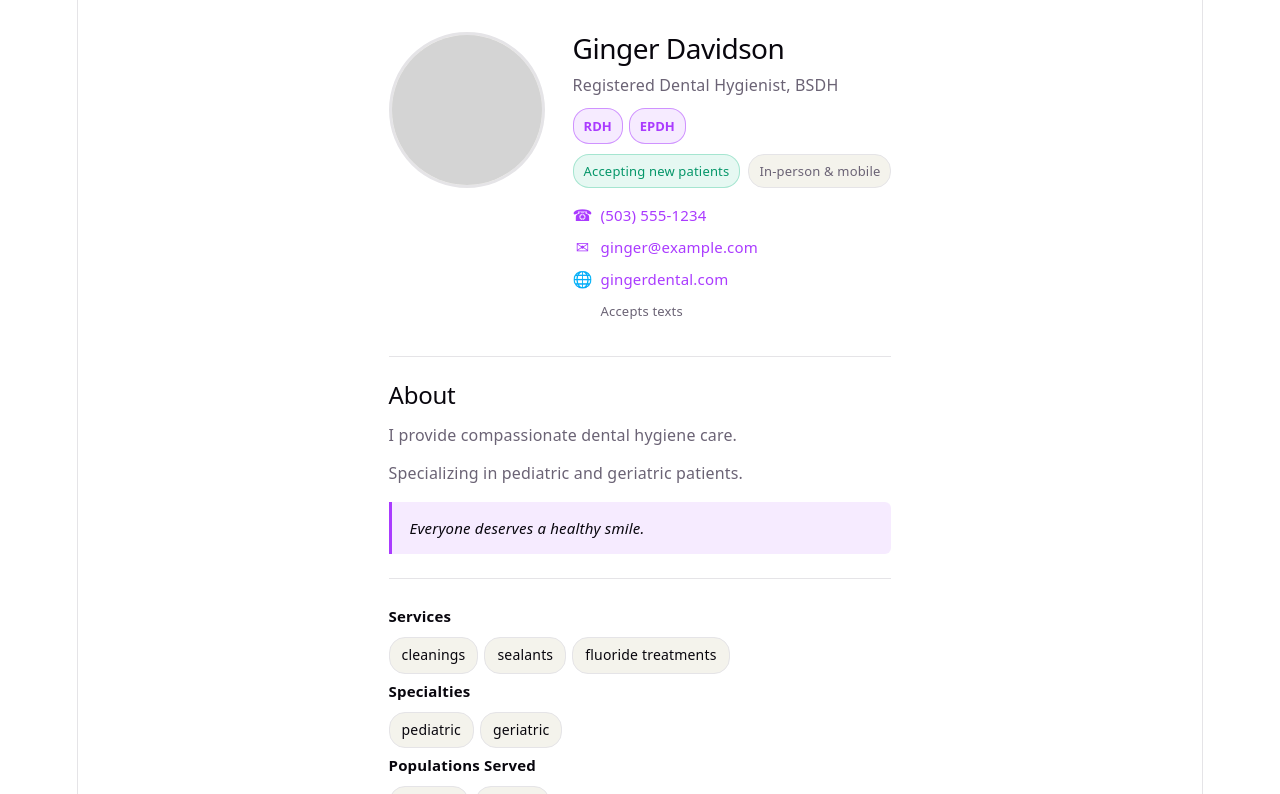
Test: Profile page › shows credential popover on click
Expected: the heading "Ginger Davidson" is shown, [572,29,784,67]
What coordinates should you click on to do the following:
click the button "EPDH"
I would click on:
 (657, 126)
Its box is [629,108,686,144].
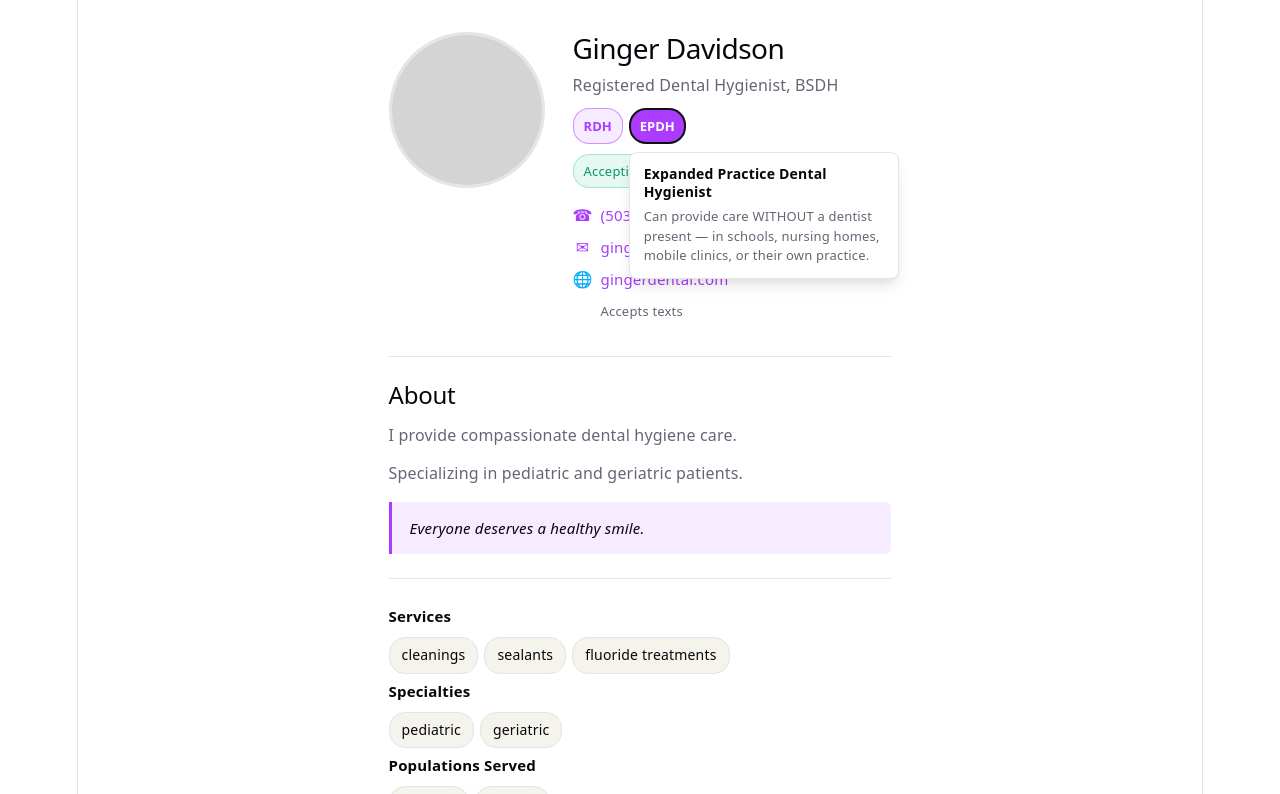
Expected: the text "Expanded Practice Dental Hygienist" is shown, [644,164,827,201]
Expected: the text "Can provide care WITHOUT a dentist present" is shown, [644,207,880,264]
